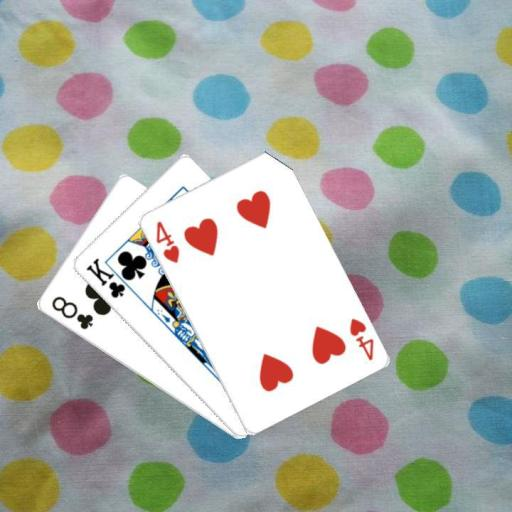4H: (346, 314, 375, 362), (152, 218, 181, 265)
8C: (48, 293, 95, 331)
KC: (82, 255, 136, 300)
